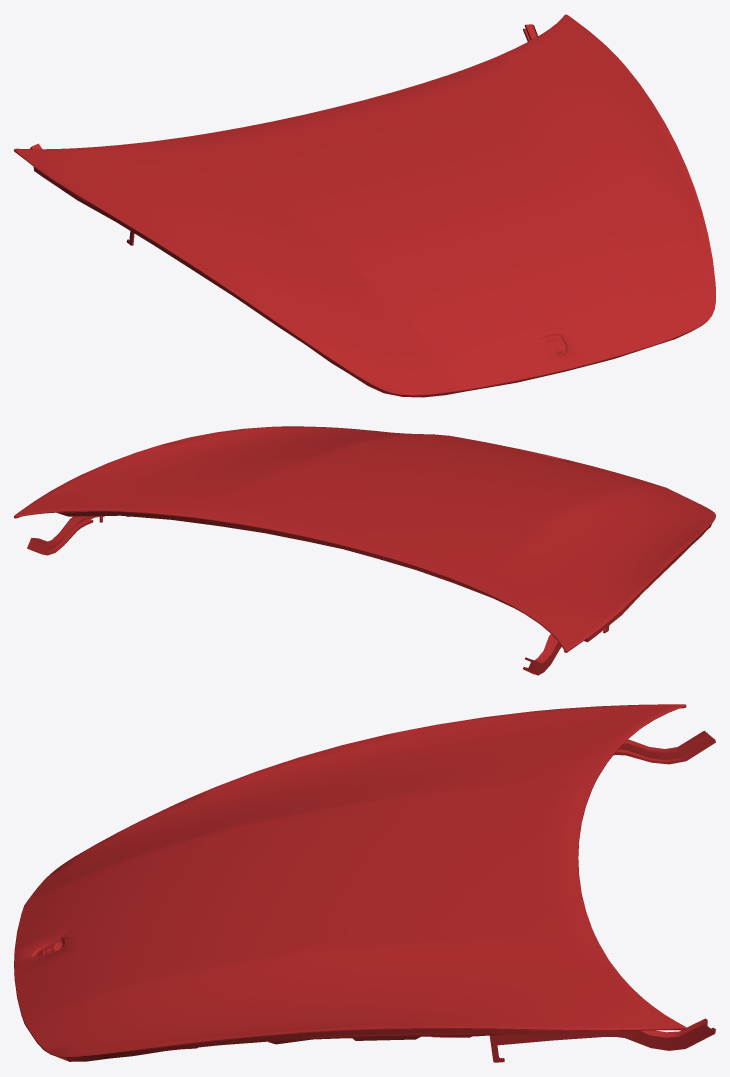
The model's file is Capota_Rosu.fbx.
The picture shows the model from 3 angles, top to bottom: view 1: azimuth 30°, elevation 25°; view 2: azimuth 150°, elevation 25°; view 3: azimuth 270°, elevation 25°; orthographic projection. The views are drawn at different scales.
Visible parts, largest first — view 1: bonneT; view 2: bonneT; view 3: bonneT.
Part boxes in pixels (x1,y1,x2,y2): bonneT: [14, 14, 715, 397]; bonneT: [14, 426, 715, 675]; bonneT: [14, 704, 715, 1062].
Bounding box in the file's own units: 2829 × 463 × 2583.
